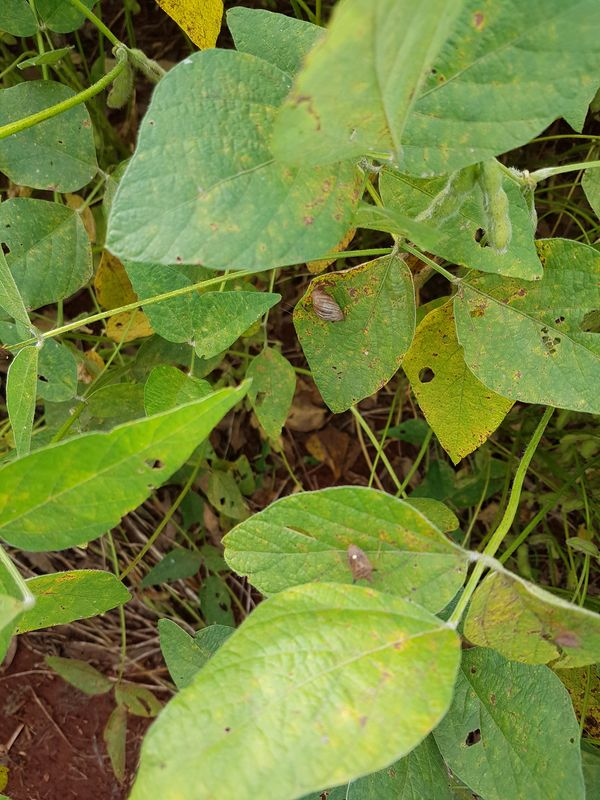Euschistus_heros_adulto: (336, 536, 388, 590)
Gastropoda: (296, 281, 355, 332)
